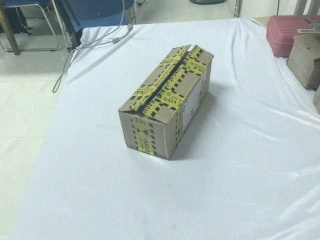box: (119, 45, 213, 159), (287, 33, 320, 90)
